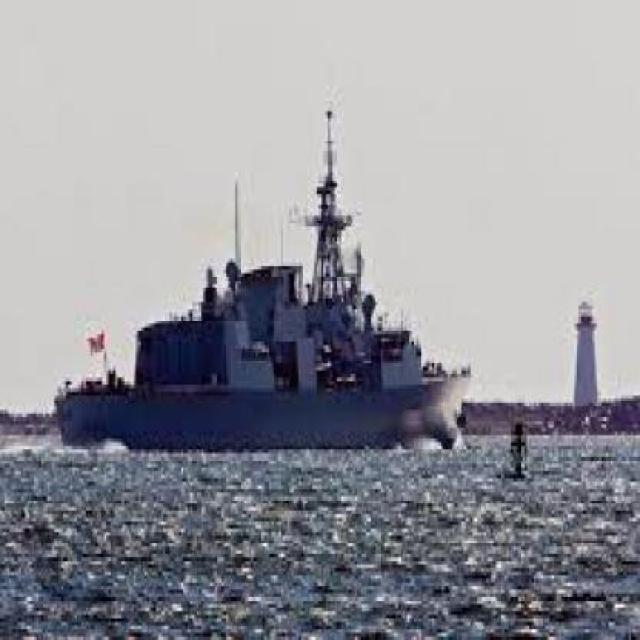warship2: (49, 88, 472, 465)
